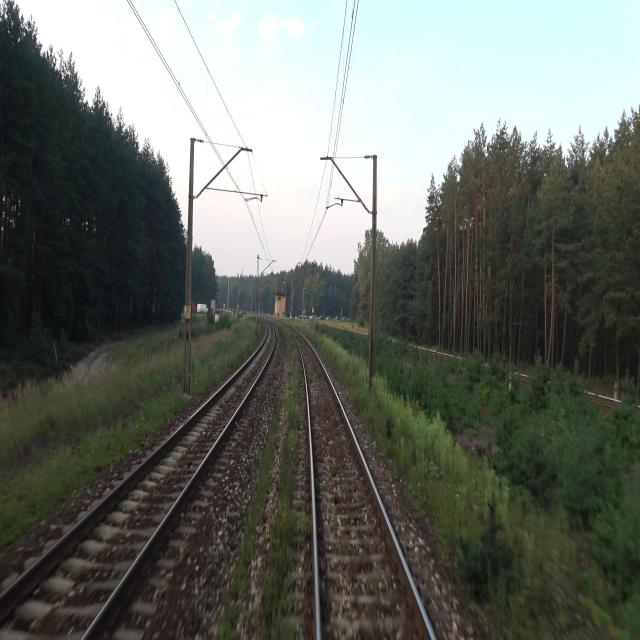rail-track: (0, 324, 274, 639), (292, 330, 430, 639)
